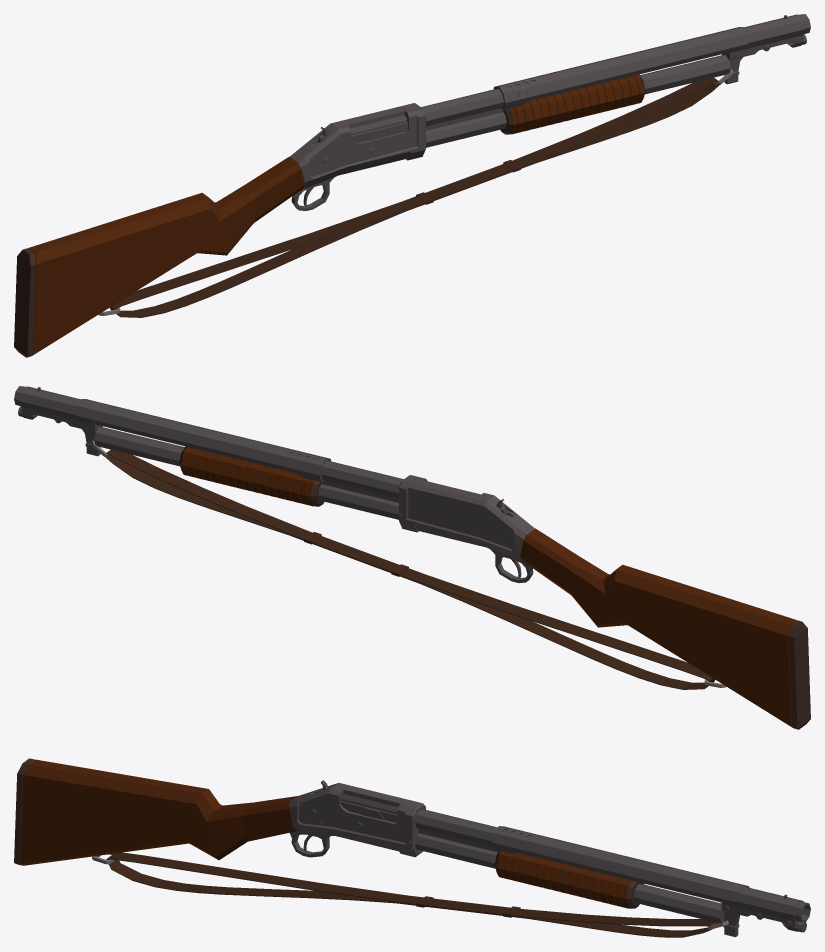
File: Weapon2.fbx
3 renders of one model, top to bottom at view 1: azimuth 30°, elevation 25°; view 2: azimuth 150°, elevation 25°; view 3: azimuth 330°, elevation 25°, orthographic.
Parts seen in each view (by area): view 1: Model.001; view 2: Model.001; view 3: Model.001.
Boxes of the visible parts, bbox=[...] form: Model.001: bbox=[14, 14, 810, 357]; Model.001: bbox=[14, 386, 810, 729]; Model.001: bbox=[14, 758, 810, 937].
Bounding box in the file's own units: 441 × 82.84 × 17.5.
